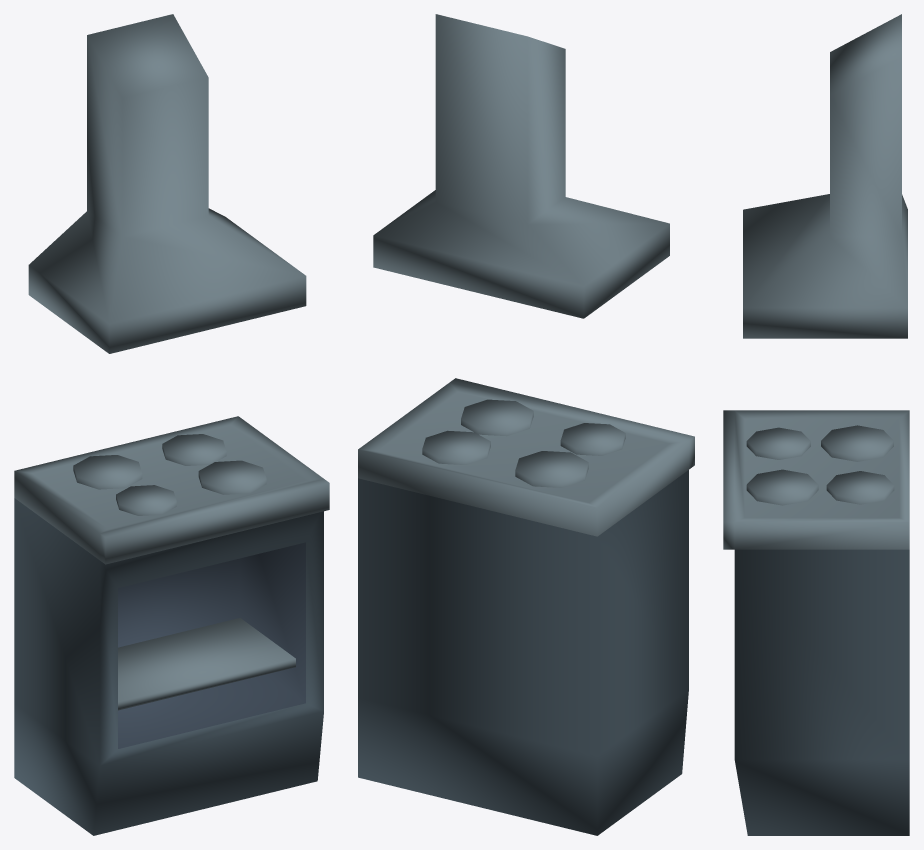
File: OvenAndHood_kitchen_v1.fbx
The picture shows the model from 3 angles, left to right: view 1: azimuth 30°, elevation 25°; view 2: azimuth 150°, elevation 25°; view 3: azimuth 270°, elevation 25°; orthographic projection. The views are drawn at different scales.
Parts seen in each view (by area): view 1: Cube.002, Cube.004, Cube, Cylinder, Cylinder.002, Cylinder.001, Cylinder.003; view 2: Cube.002, Cube.004, Cylinder, Cylinder.002, Cylinder.001, Cylinder.003; view 3: Cube.002, Cube.004, Cylinder, Cylinder.002, Cylinder.001, Cylinder.003.
Part boxes in pixels (x1,y1,x2,y2): Cube.002: [14, 416, 329, 835]; Cube.004: [28, 14, 306, 353]; Cube: [118, 618, 295, 710]; Cylinder: [73, 455, 142, 489]; Cylinder.002: [198, 460, 266, 494]; Cylinder.001: [162, 434, 226, 465]; Cylinder.003: [116, 485, 176, 515]; Cube.002: [358, 378, 694, 835]; Cube.004: [373, 14, 669, 318]; Cylinder: [515, 451, 588, 487]; Cylinder.002: [461, 399, 533, 436]; Cylinder.001: [422, 430, 490, 464]; Cylinder.003: [560, 423, 625, 455]; Cube.002: [723, 410, 909, 835]; Cube.004: [743, 14, 907, 338]; Cylinder: [821, 425, 893, 461]; Cylinder.002: [746, 469, 818, 505]; Cylinder.001: [826, 471, 894, 504]; Cylinder.003: [746, 427, 810, 459].
Bounding box in the file's own units: 82.44 × 256 × 58.13.
